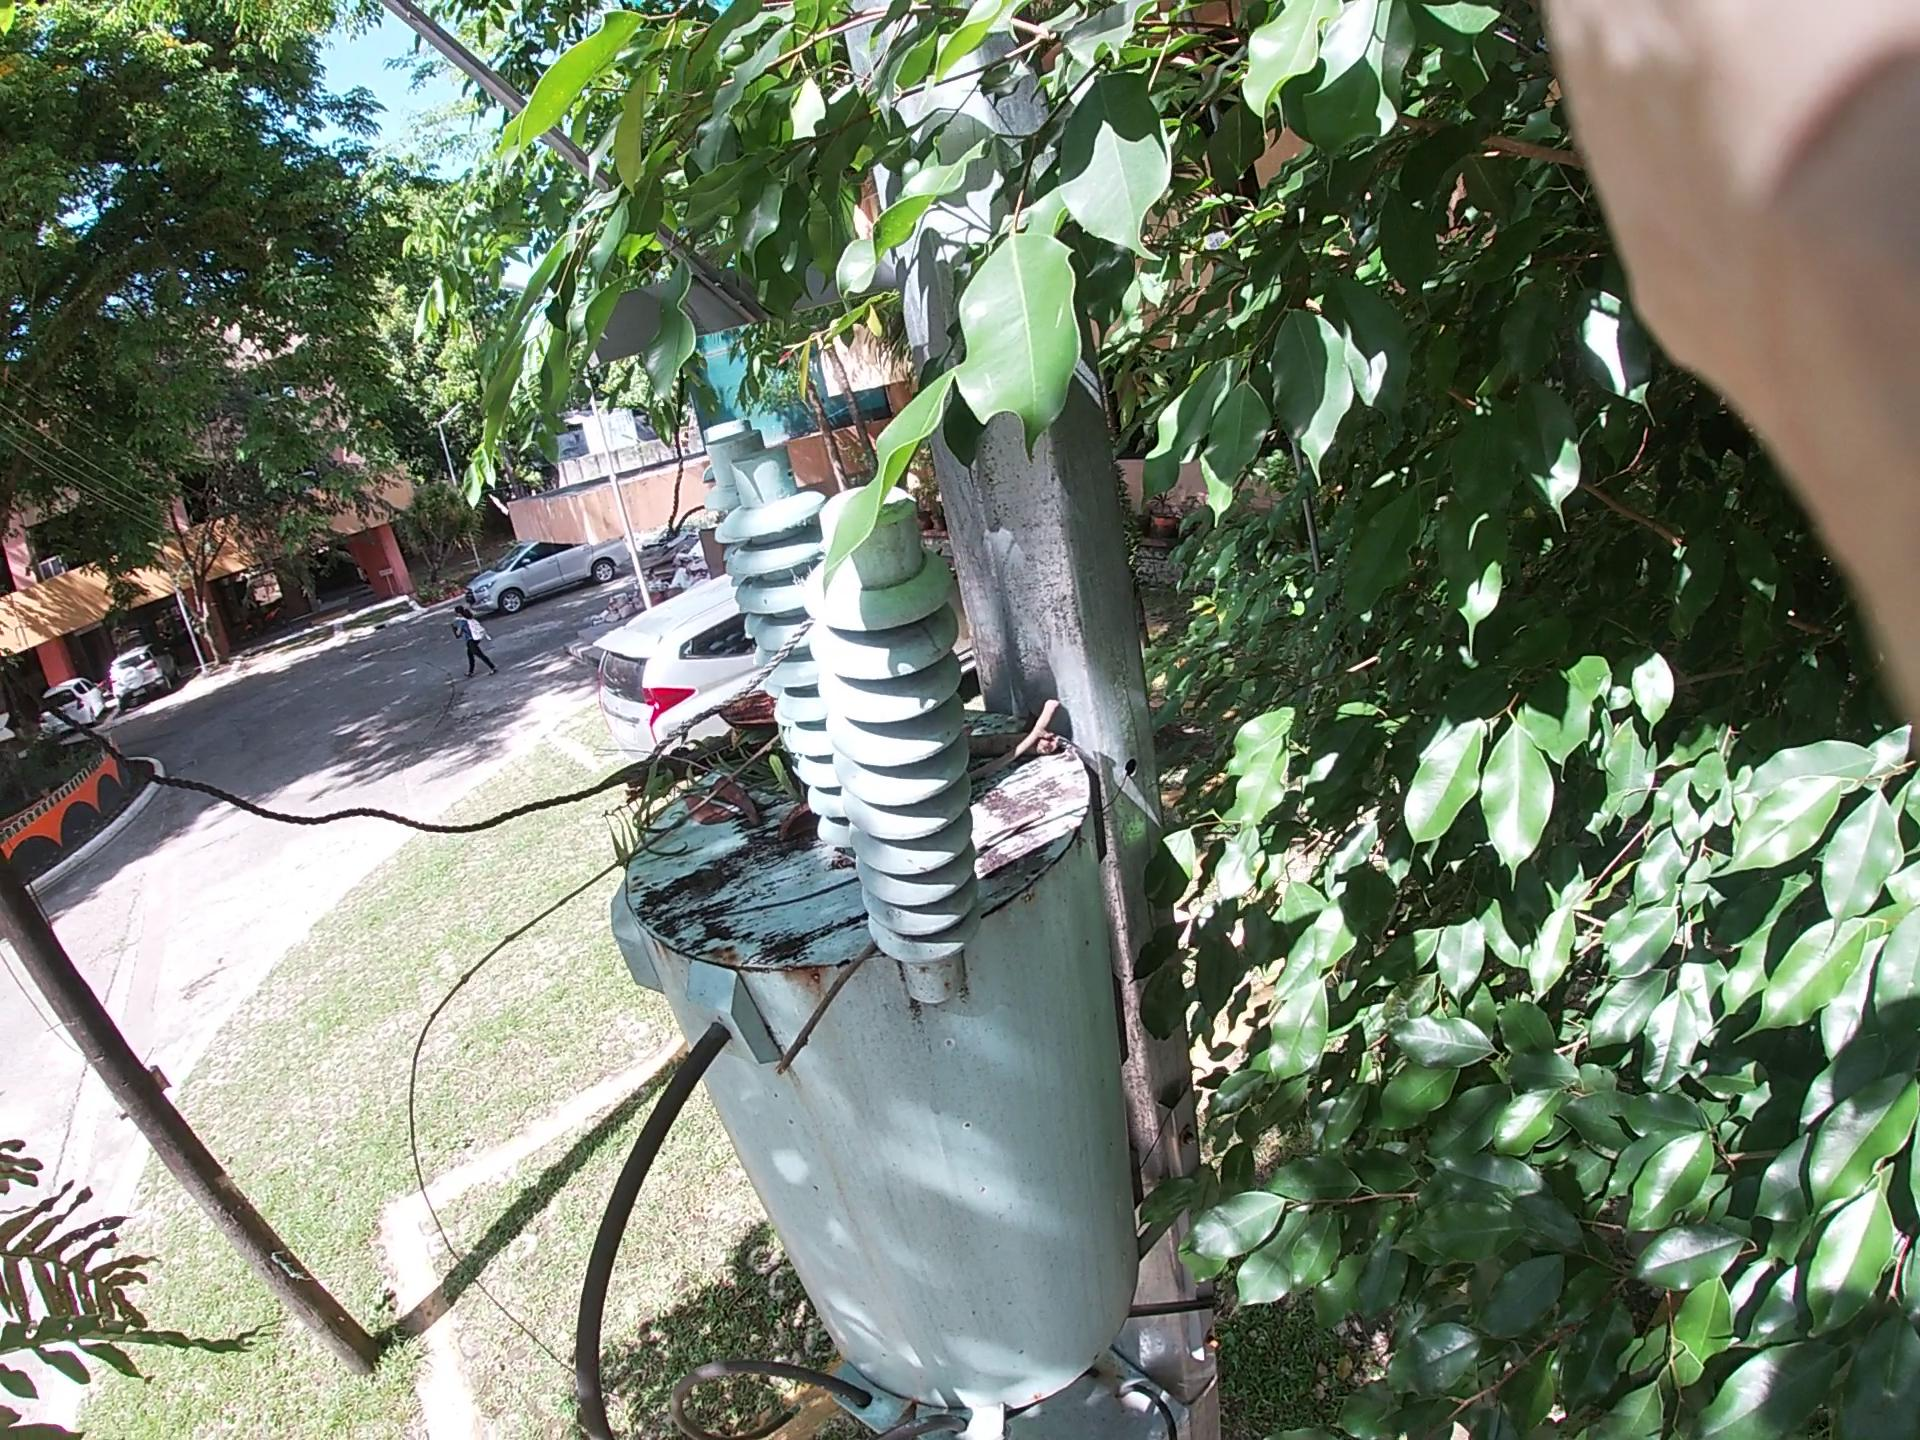branch with leaves: (597, 631, 812, 839)
leaf: (689, 768, 750, 853)
mahogany fruit: (698, 681, 797, 735), (760, 802, 854, 852)
tree branch: (286, 744, 803, 1190), (780, 924, 919, 1072), (965, 644, 1028, 821)
